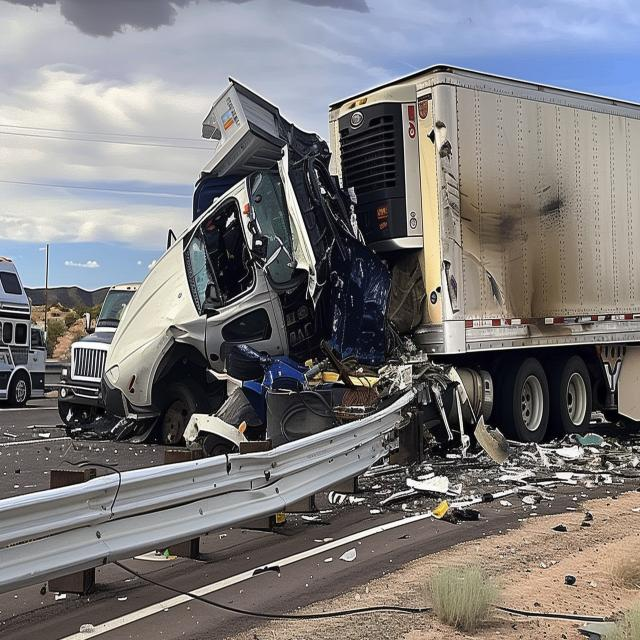Accident: (56, 61, 640, 445)
